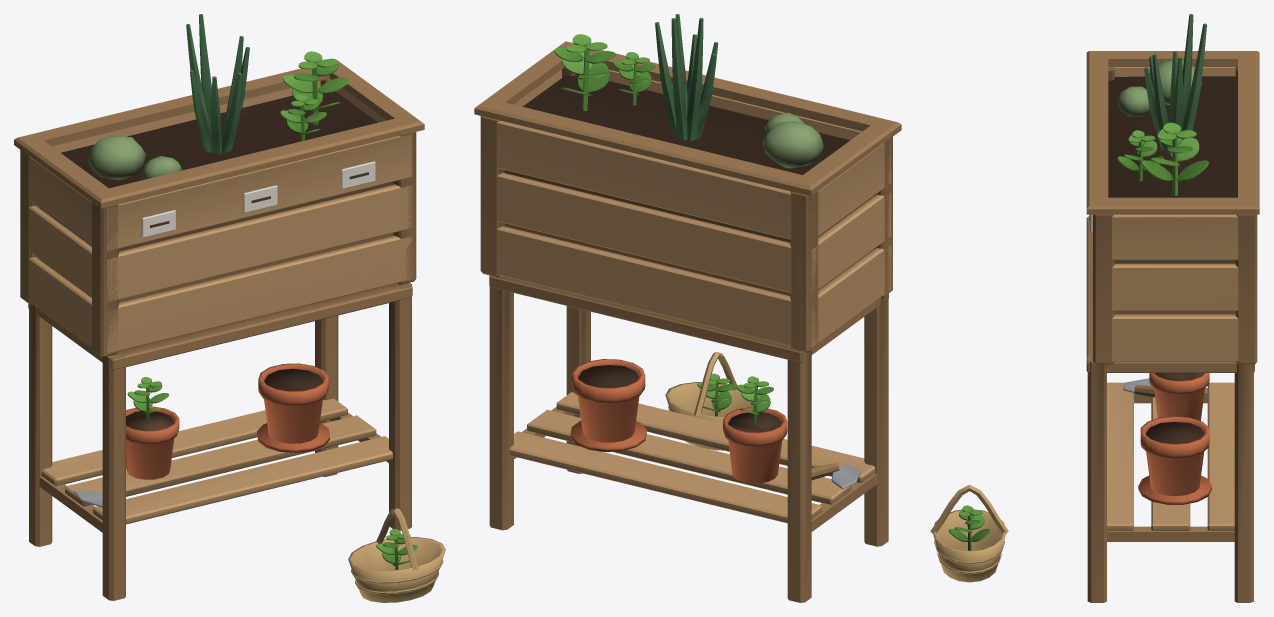
Rendered from herbGarden.glb.
3 views of the same model, side by side, from view 1: azimuth 30°, elevation 25°; view 2: azimuth 150°, elevation 25°; view 3: azimuth 270°, elevation 25° (orthographic). The views are drawn at different scales.
Parts seen in each view (by area): view 1: body; view 2: body; view 3: body.
Boxes of the visible parts, x1,y1,x2,y2 form: body: [14, 14, 445, 602]; body: [474, 14, 901, 602]; body: [930, 14, 1259, 602].
Size of the model in its own units: 0.86 by 1.29 by 0.7623.
